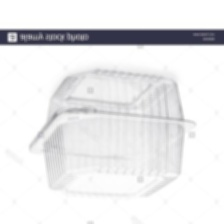plastic_box: (21, 60, 202, 207)
